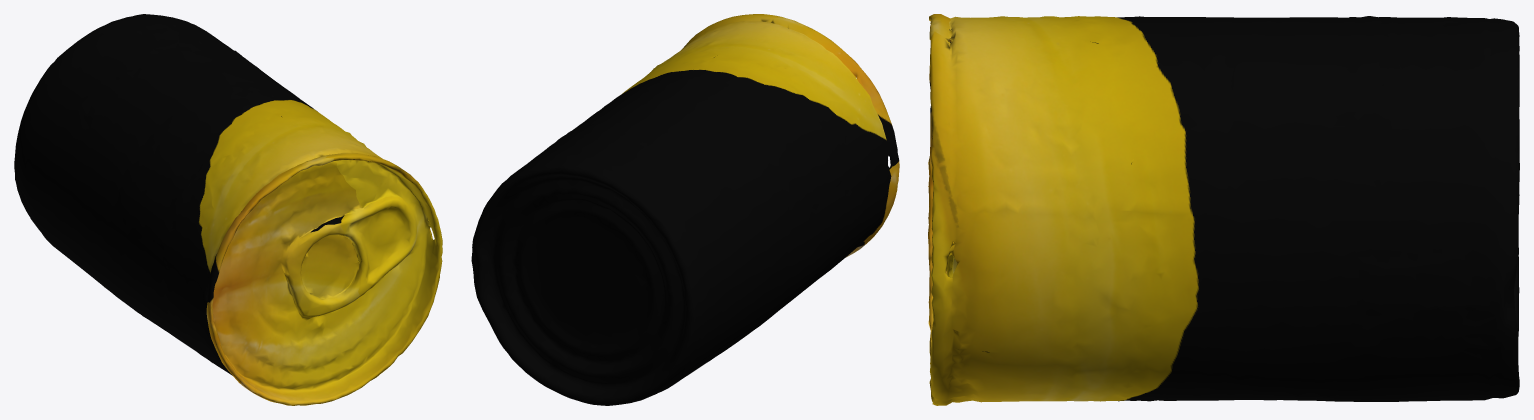
The model's file is model_com.obj.
The picture shows the model from 3 angles, left to right: view 1: azimuth 30°, elevation 25°; view 2: azimuth 150°, elevation 25°; view 3: azimuth 270°, elevation 25°; orthographic projection. The views are drawn at different scales.
Bounding box in the file's own units: 0.0679 × 0.0677 × 0.1019.
